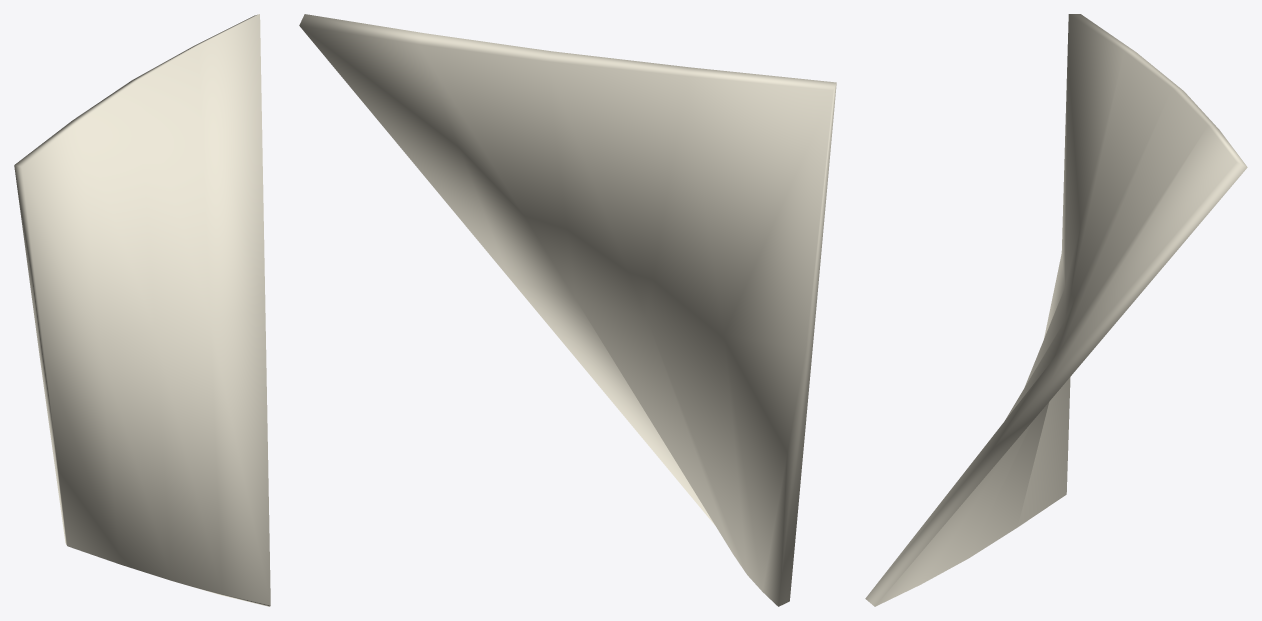
3 views of the same model, side by side, from view 1: azimuth 30°, elevation 25°; view 2: azimuth 150°, elevation 25°; view 3: azimuth 270°, elevation 25° (orthographic). The views are drawn at different scales.
Parts seen in each view (by area): view 1: ZA_454ddfe09a836c74; view 2: ZA_454ddfe09a836c74; view 3: ZA_454ddfe09a836c74.
Boxes of the visible parts, x1=… form: ZA_454ddfe09a836c74: x1=14, y1=14, x2=270, y2=606; ZA_454ddfe09a836c74: x1=299, y1=14, x2=836, y2=606; ZA_454ddfe09a836c74: x1=865, y1=14, x2=1247, y2=606.
Bounding box in the file's own units: 0.0167 × 0.0228 × 0.015.
